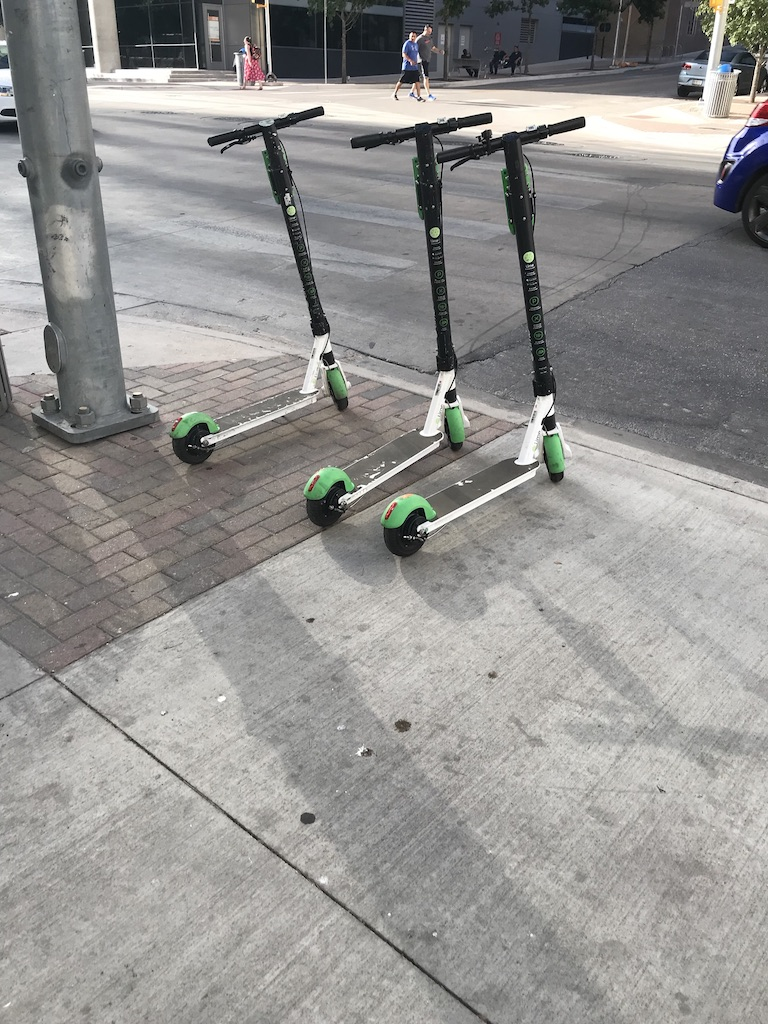scooter: (379, 113, 586, 560), (303, 110, 493, 528), (169, 105, 352, 466)
